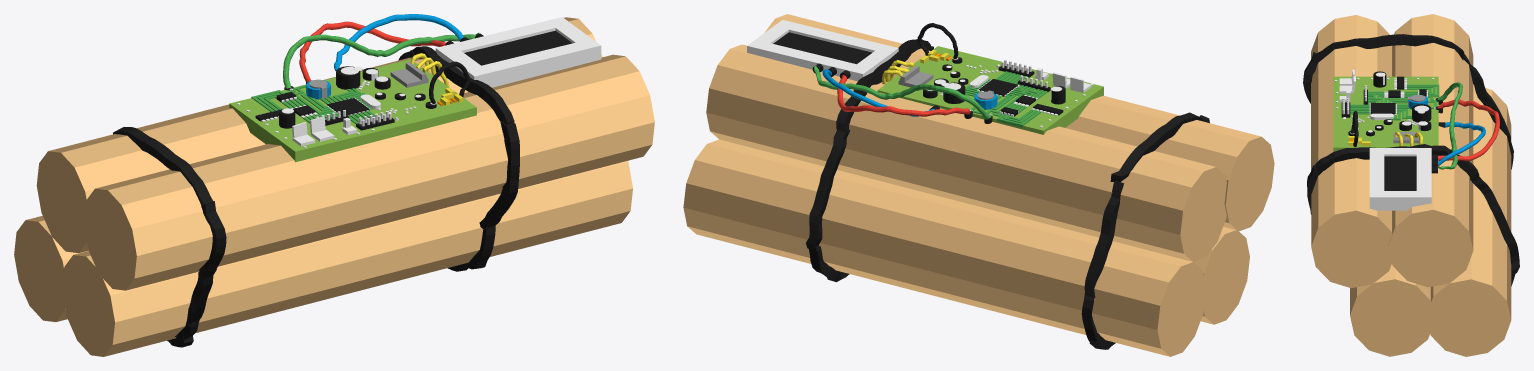
File: Bomb.glb
3 renders of one model, left to right at view 1: azimuth 30°, elevation 25°; view 2: azimuth 150°, elevation 25°; view 3: azimuth 270°, elevation 25°, orthographic. The views are drawn at different scales.
Visible parts, largest first — view 1: group1970892701, group1975409599, group274573011, group655529792, group873853147, group2135723796, group1108183995, group2108616701, group2068141517, group77276418, group1656667694, group674327210 (+7 smaller); view 2: group873853147, group274573011, group1970892701, group655529792, group1975409599, group1812973905, group77276418, group583893066, group2068141517, group1108183995, group2135723796, group674327210 (+7 smaller); view 3: group1970892701, group274573011, group873853147, group1975409599, group655529792, group1108183995, group2068141517, group1328185556, group1812973905, group1656667694, group2135723796, group77276418 (+11 smaller).
Part boxes in pixels (box(x1,y1,x2,y2)): group1970892701: box(83, 54, 654, 290); group1975409599: box(64, 161, 632, 356); group274573011: box(36, 17, 602, 253); group655529792: box(229, 59, 476, 162); group873853147: box(14, 215, 88, 321); group2135723796: box(481, 39, 601, 87); group1108183995: box(113, 127, 212, 204); group2108616701: box(479, 121, 519, 228); group2068141517: box(464, 30, 572, 65); group77276418: box(435, 18, 567, 59); group1656667694: box(413, 46, 514, 132); group674327210: box(283, 32, 479, 88); group873853147: box(683, 139, 1206, 356); group274573011: box(706, 44, 1226, 261); group1970892701: box(764, 14, 1274, 231); group655529792: box(877, 46, 1103, 134); group1975409599: box(1194, 227, 1249, 324); group1812973905: box(806, 130, 850, 250); group77276418: box(751, 40, 871, 81); group583893066: box(1084, 181, 1123, 297); group2068141517: box(773, 32, 871, 64); group1108183995: box(1110, 112, 1206, 181); group2135723796: box(774, 20, 896, 53); group674327210: box(814, 65, 991, 119); group1970892701: box(1311, 15, 1392, 288); group274573011: box(1388, 14, 1473, 287); group873853147: box(1430, 84, 1511, 356); group1975409599: box(1350, 264, 1434, 356); group655529792: box(1333, 76, 1438, 151); group1108183995: box(1314, 34, 1464, 63); group2068141517: box(1384, 156, 1416, 190); group1328185556: box(1369, 191, 1431, 210); group1812973905: box(1470, 177, 1519, 275); group1656667694: box(1315, 144, 1450, 173); group2135723796: box(1369, 148, 1384, 210); group77276418: box(1416, 148, 1431, 195).
Bounding box in the file's own units: 3.87 × 1.69 × 1.74.
